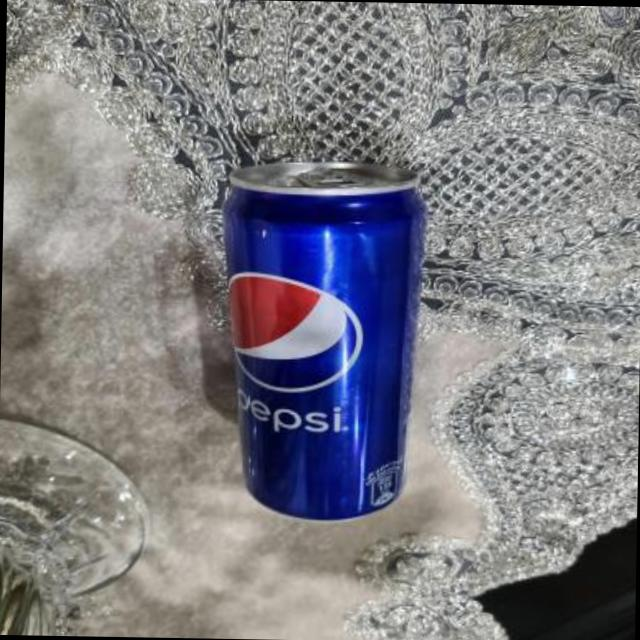metal: (226, 164, 424, 521)
